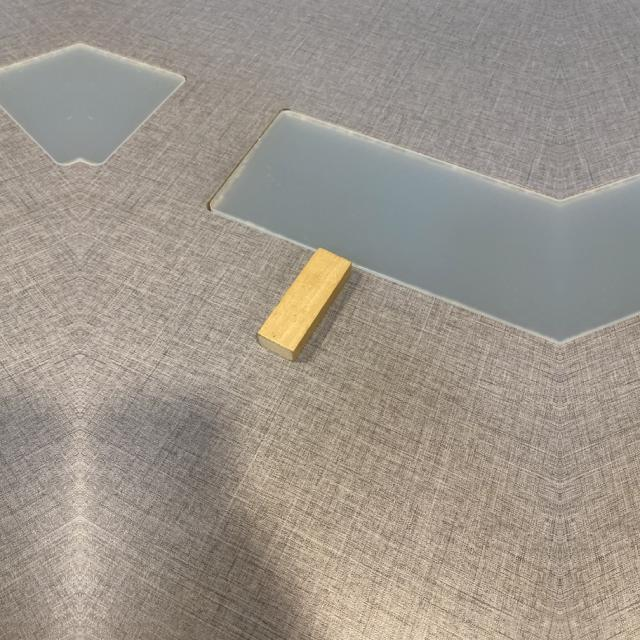jenga: (256, 246, 353, 362)
